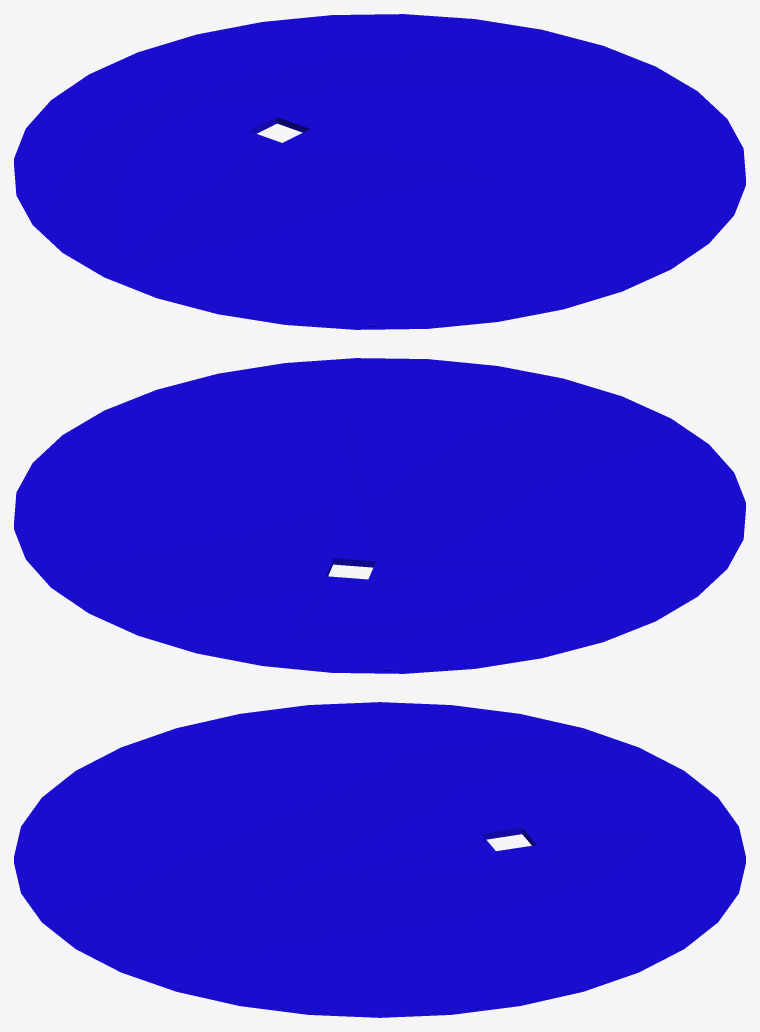
Rendered from TAPAdomo.fbx.
3 views of the same model, one above another, from view 1: azimuth 30°, elevation 25°; view 2: azimuth 150°, elevation 25°; view 3: azimuth 270°, elevation 25° (orthographic).
Parts seen in each view (by area): view 1: Cylinder; view 2: Cylinder; view 3: Cylinder.
Part boxes in pixels (box(x1,y1,x2,y2)): Cylinder: box(14, 14, 745, 329); Cylinder: box(14, 358, 745, 673); Cylinder: box(14, 702, 745, 1017).
Bounding box in the file's own units: 246 × 2.38 × 246.
